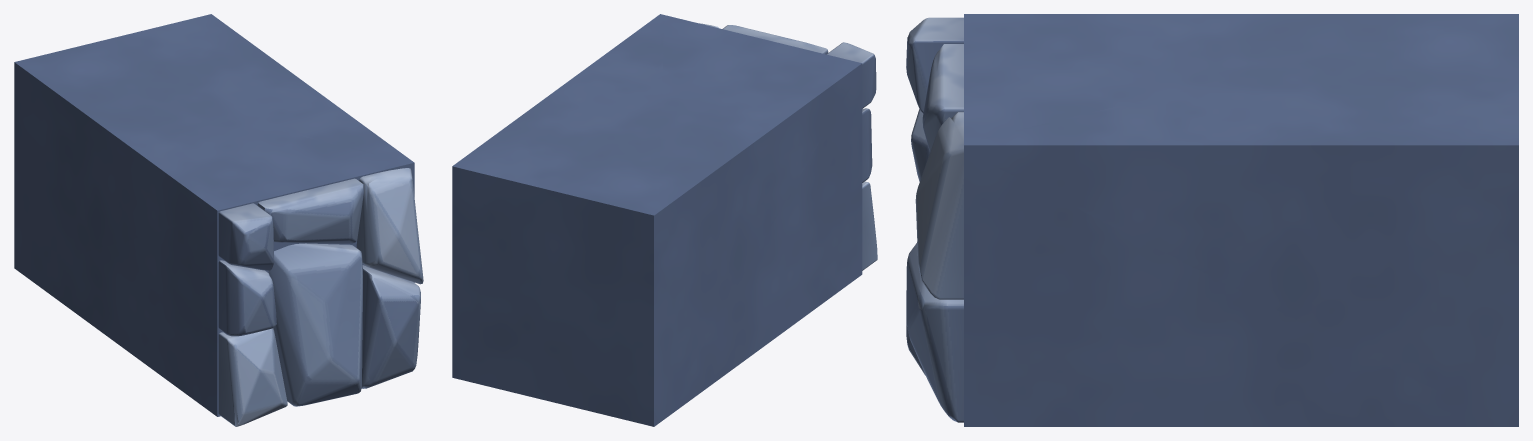
File: FP_T04_IceRockCore.fbx
The picture shows the model from 3 angles, left to right: view 1: azimuth 30°, elevation 25°; view 2: azimuth 150°, elevation 25°; view 3: azimuth 270°, elevation 25°; orthographic projection. The views are drawn at different scales.
Visible parts, largest first — view 1: Rock; view 2: Rock; view 3: Rock.
Part boxes in pixels (x1,y1,x2,y2): Rock: [14, 14, 423, 426]; Rock: [452, 14, 877, 426]; Rock: [906, 14, 1518, 426].
Size of the model in its own units: 2 by 2 by 3.94.
